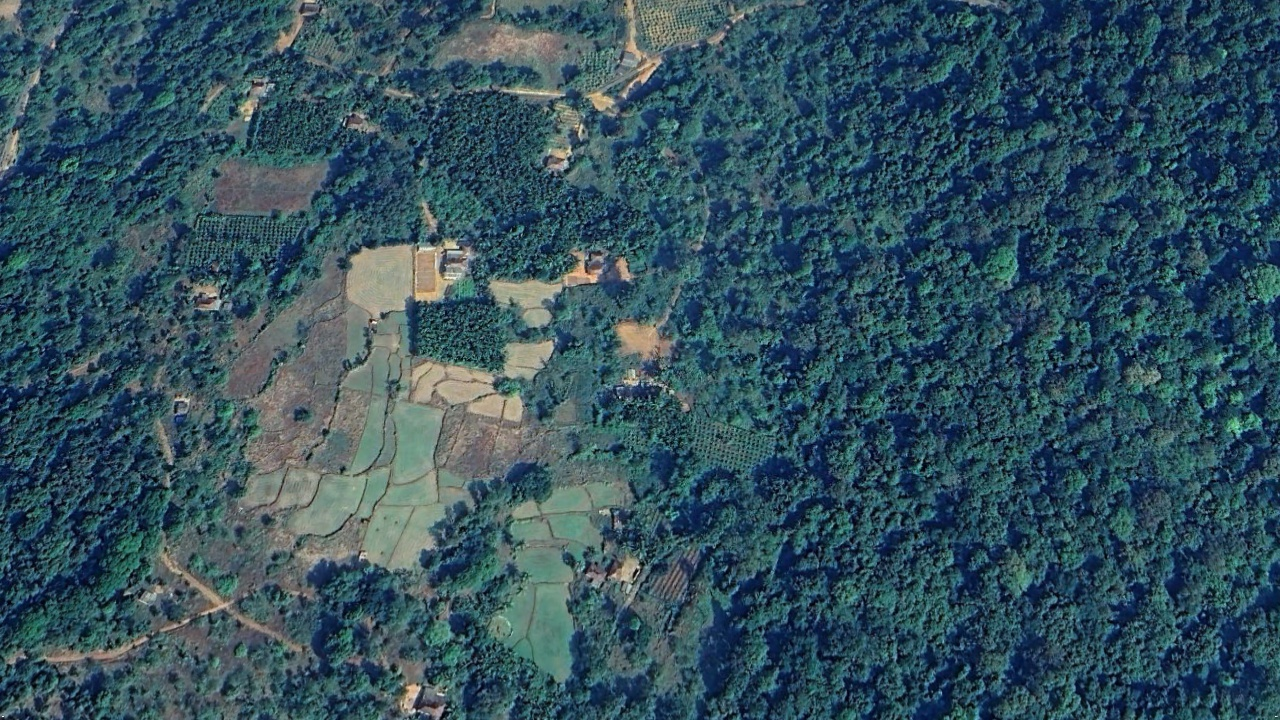arecanut: (426, 85, 645, 242), (252, 74, 351, 164)
